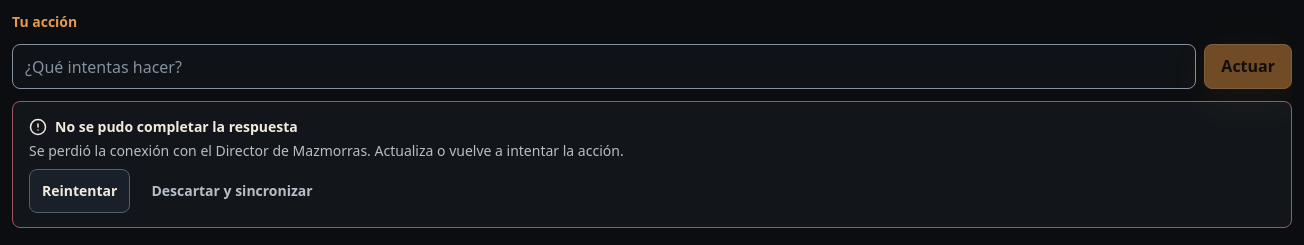
Test case: ActionInput retry identity (DC-AUD-003) › 10. a newer submission never causes a stale one to be resent
This screenshot has width=1304, height=245.
Expected: the button "Reintentar" is shown, [29,169,130,213]
In the field labelled "Tu acción": (604, 67) [12,44,1196,89], type "I look around"
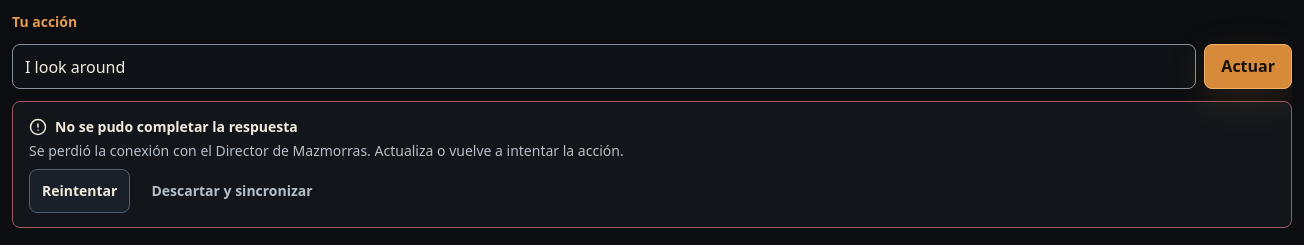
Click the button "Actuar": (1248, 67) [1204,44,1292,89]
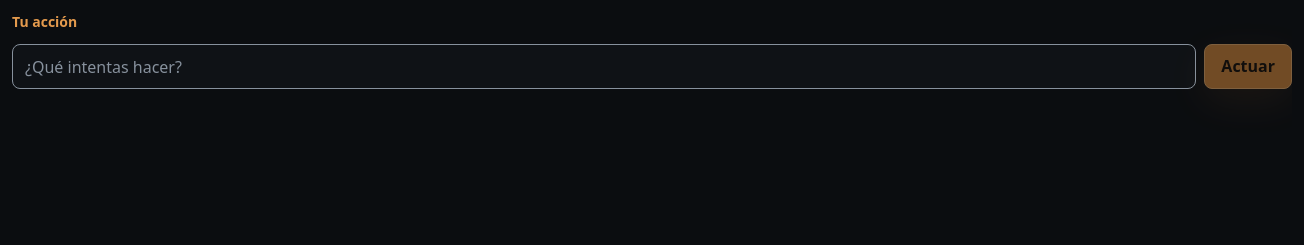
Expected: the button "Reintentar" is gone
